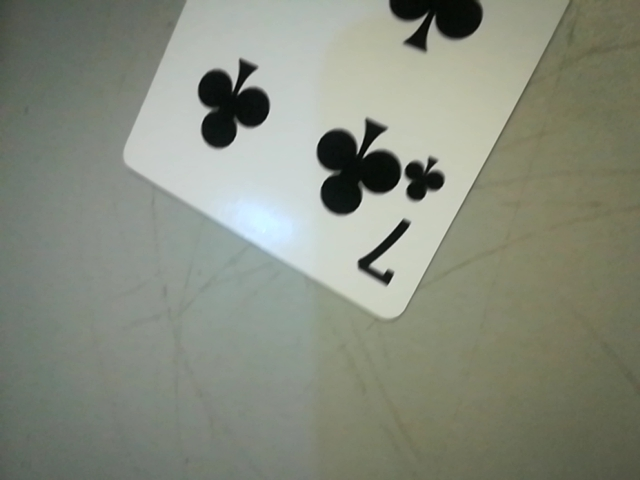mh 7: (344, 149, 446, 302)
